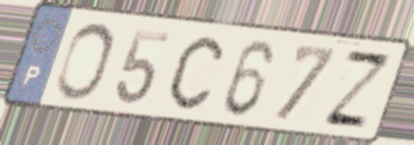5: (113, 26, 174, 107)
6: (221, 35, 276, 122)
7: (274, 41, 340, 125)
C: (166, 33, 226, 113)
O: (52, 20, 117, 103)
Z: (318, 47, 397, 132)
